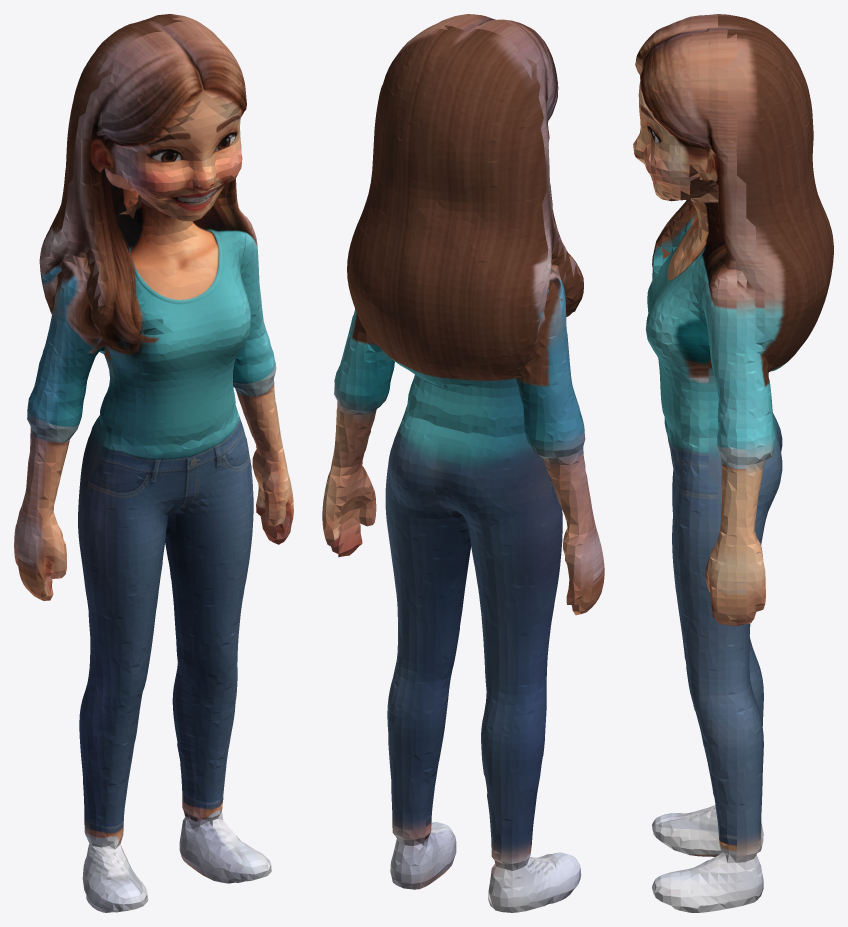
File: sasa.glb
3 renders of one model, left to right at view 1: azimuth 30°, elevation 25°; view 2: azimuth 150°, elevation 25°; view 3: azimuth 270°, elevation 25°, orthographic.
Parts seen in each view (by area): view 1: geometry_0; view 2: geometry_0; view 3: geometry_0.
Part boxes in pixels (bbox=[...]): geometry_0: bbox=[14, 14, 293, 912]; geometry_0: bbox=[322, 14, 604, 912]; geometry_0: bbox=[633, 14, 833, 912].
Size of the model in its own units: 0.3254 by 1 by 0.2146.
Materials: 1 (1 with a texture image).
